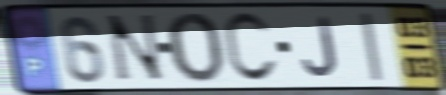6: (57, 13, 106, 85)
C: (220, 10, 281, 87)
I: (356, 10, 387, 84)
J: (300, 15, 341, 79)
N: (103, 12, 169, 86)
O: (164, 10, 227, 86)
